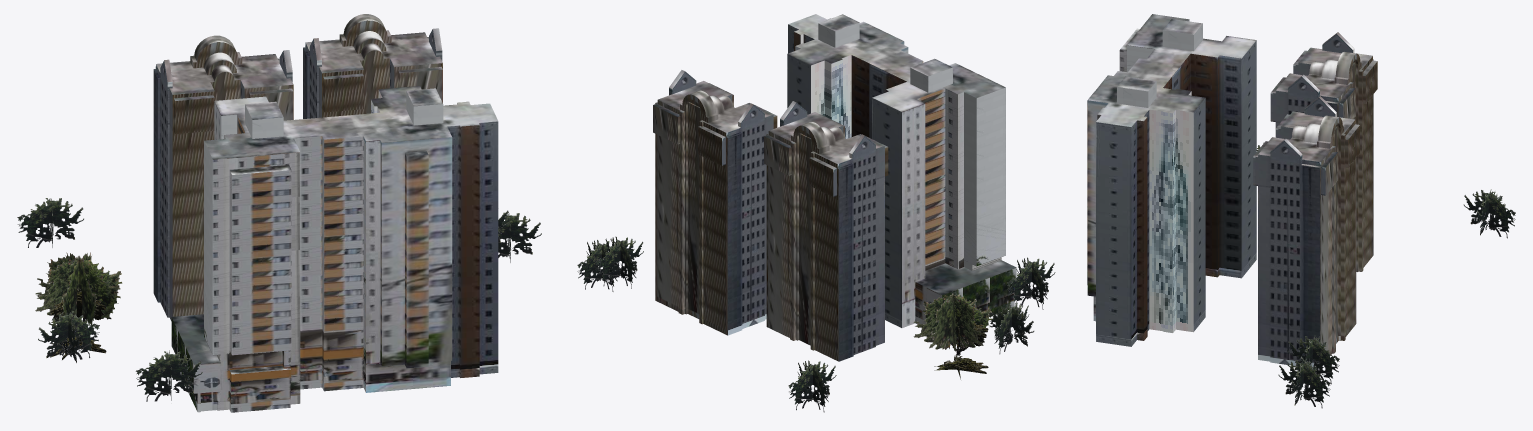
Rendered from Edificios+recidenciales+AV.fbx.
3 renders of one model, left to right at view 1: azimuth 30°, elevation 25°; view 2: azimuth 150°, elevation 25°; view 3: azimuth 270°, elevation 25°, orthographic. The views are drawn at different scales.
Parts seen in each view (by area): view 1: Model, Group1, Group5, Group4, Group3, Group7, Group2; view 2: Model, Group1, Group4, Group6, Group5, Group3, Group7, Group2; view 3: Model, Group5, Group7, Group6.
Part boxes in pixels (x1,y1,x2,y2): Model: (153, 14, 498, 412); Group1: (35, 252, 122, 325); Group5: (17, 198, 83, 247); Group4: (135, 350, 202, 401); Group3: (38, 310, 99, 362); Group7: (498, 212, 541, 262); Group2: (50, 288, 106, 359); Model: (653, 14, 1016, 361); Group1: (913, 293, 992, 351); Group4: (1007, 257, 1055, 309); Group6: (596, 236, 643, 288); Group5: (788, 360, 836, 412); Group3: (989, 302, 1034, 354); Group7: (577, 240, 618, 291); Group2: (934, 321, 988, 379); Model: (1087, 14, 1377, 368); Group5: (1463, 189, 1515, 238); Group7: (1278, 359, 1330, 408); Group6: (1288, 335, 1339, 384).
Size of the model in its own units: 12004 by 6148 by 9854.
